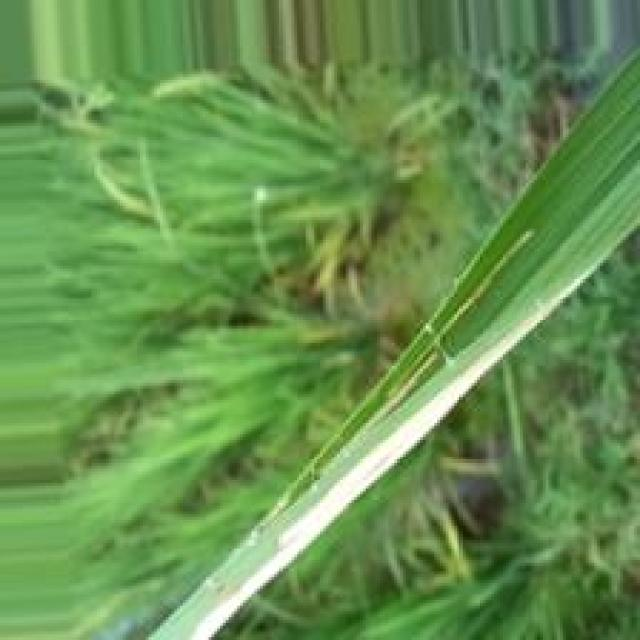Rice_Hispa: (179, 281, 577, 640)
